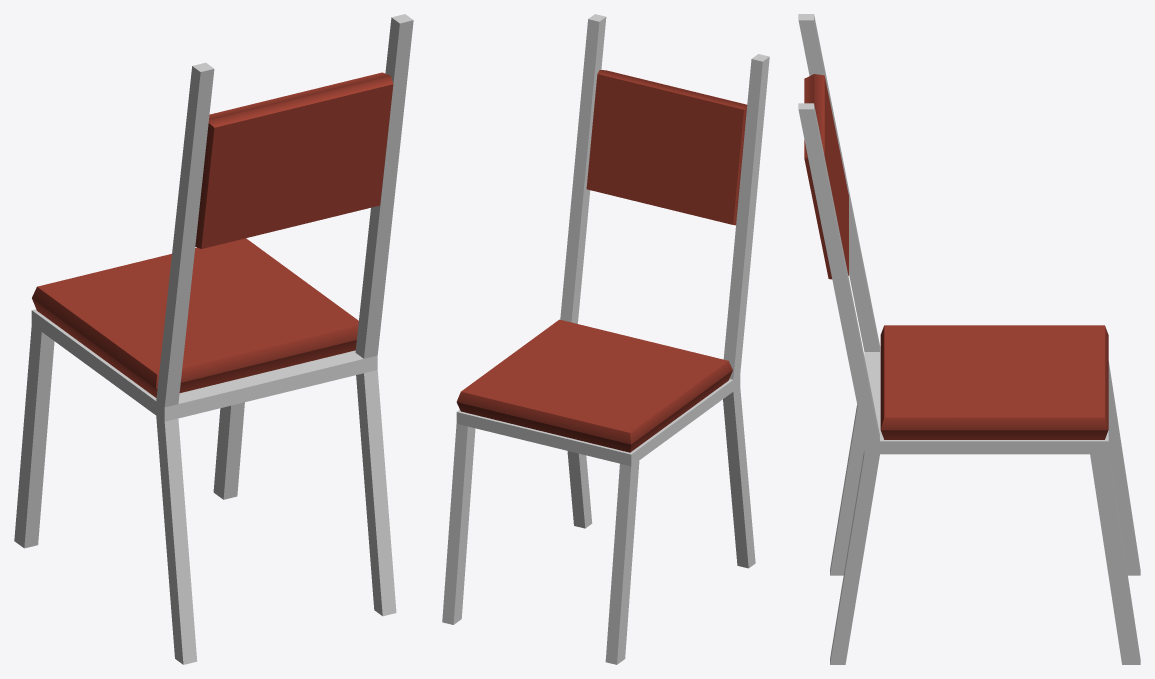
File: Chair.fbx
3 views of the same model, side by side, from view 1: azimuth 30°, elevation 25°; view 2: azimuth 150°, elevation 25°; view 3: azimuth 270°, elevation 25° (orthographic). The views are drawn at different scales.
Parts seen in each view (by area): view 1: Chair; view 2: Chair; view 3: Chair.
Boxes of the visible parts, box(x1,y1,x2,y2) form: Chair: box(14, 14, 413, 664); Chair: box(442, 14, 769, 664); Chair: box(798, 14, 1140, 664).
Size of the model in its own units: 38.62 by 105 by 58.52.
